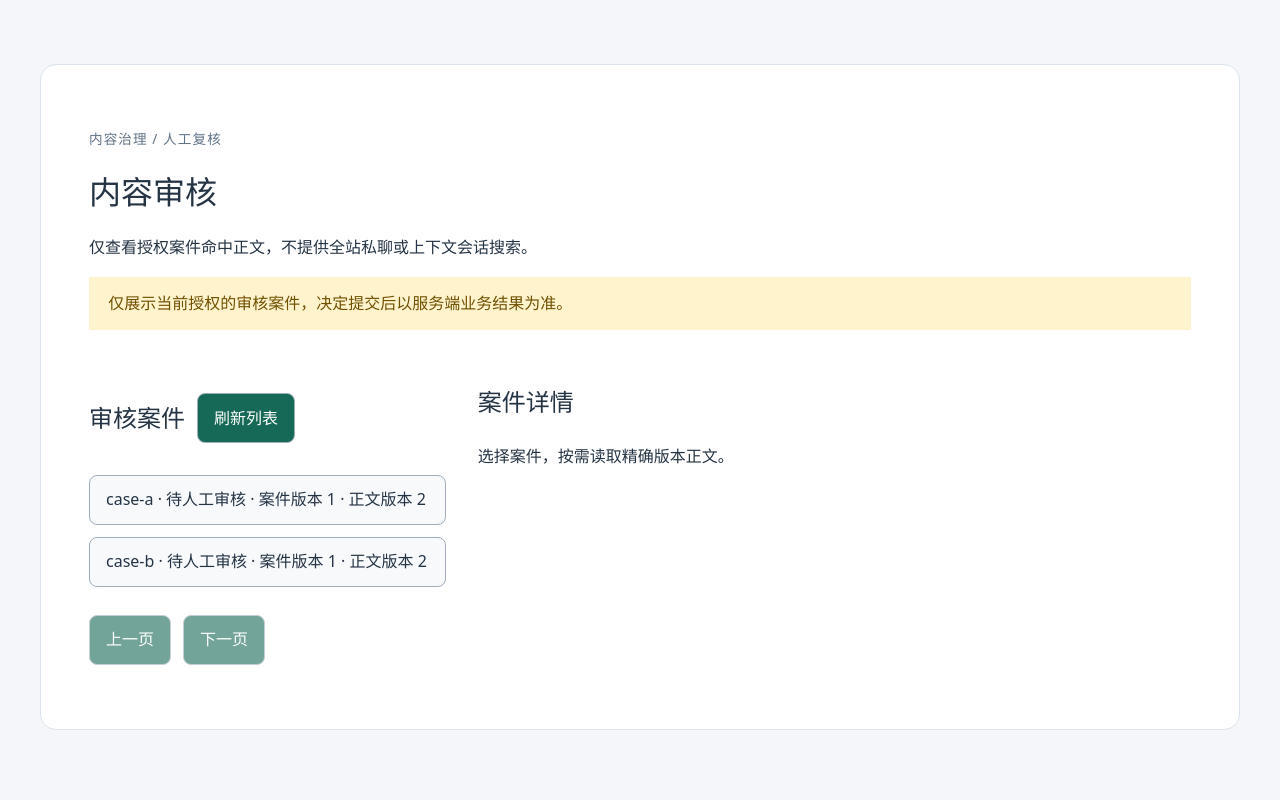
Test: T017 真实内容审核页面交互 › 409重新读取新正文版本并清空旧决定，不自动重提
Click the button "case-a · 待人工审核 · 案件版本 1 · 正文版本 2" at (267, 500), box 89,475 -> 446,525
(page scrolled)
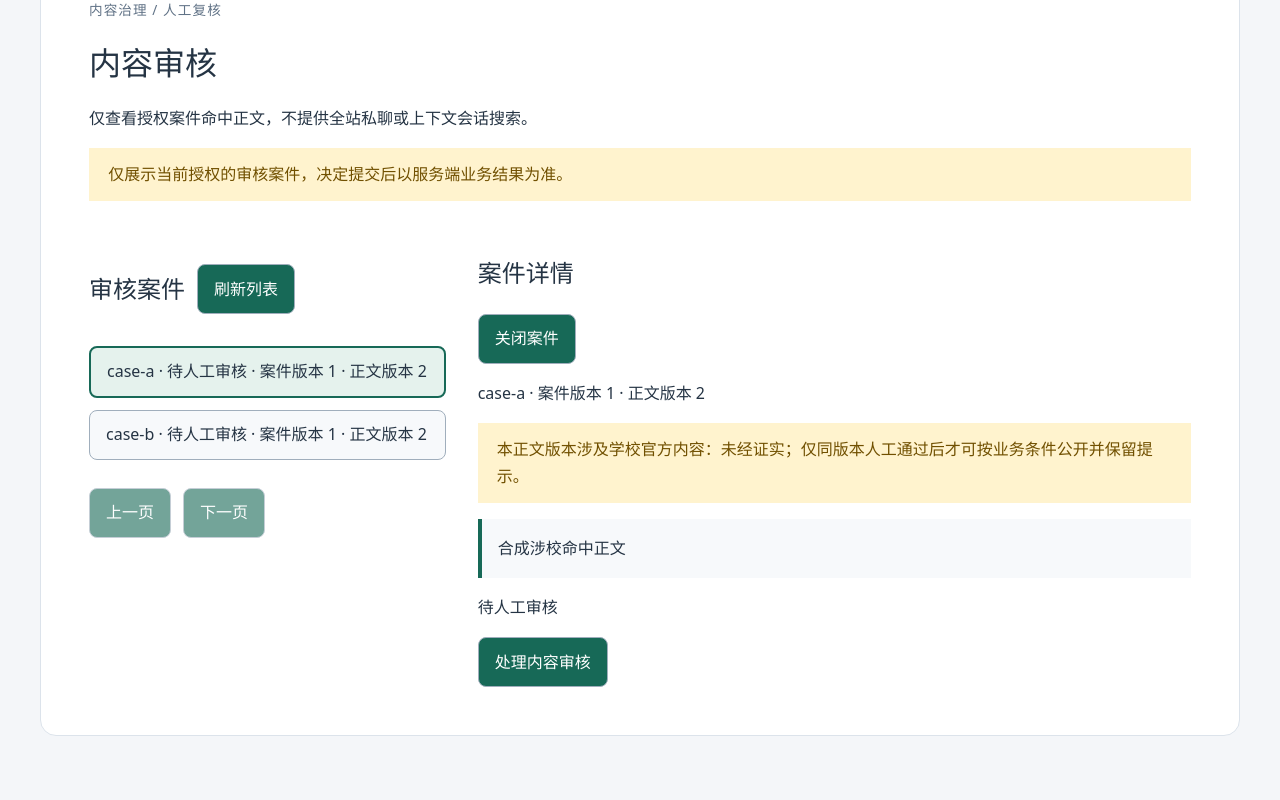
Click the button "处理内容审核" at (543, 662), box 478,637 -> 608,687
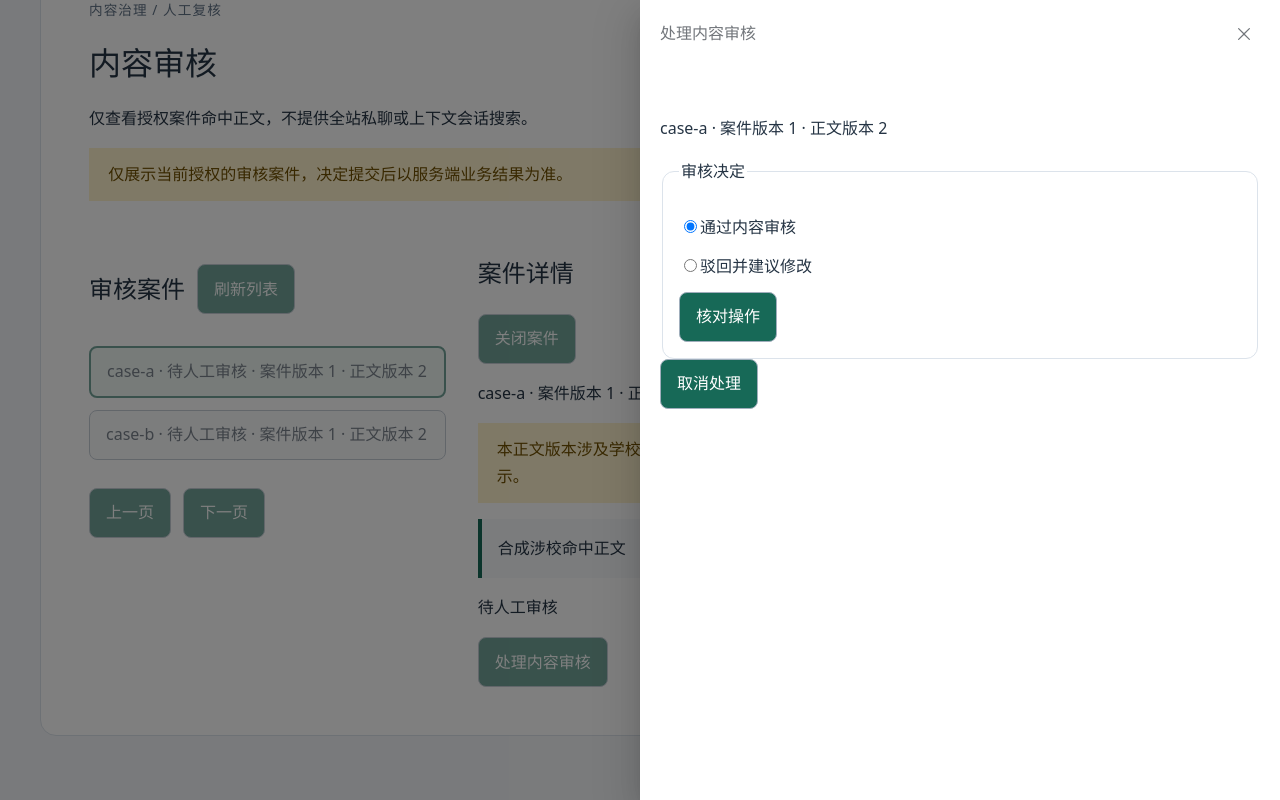
Submit the form, box 660,158 -> 1260,359
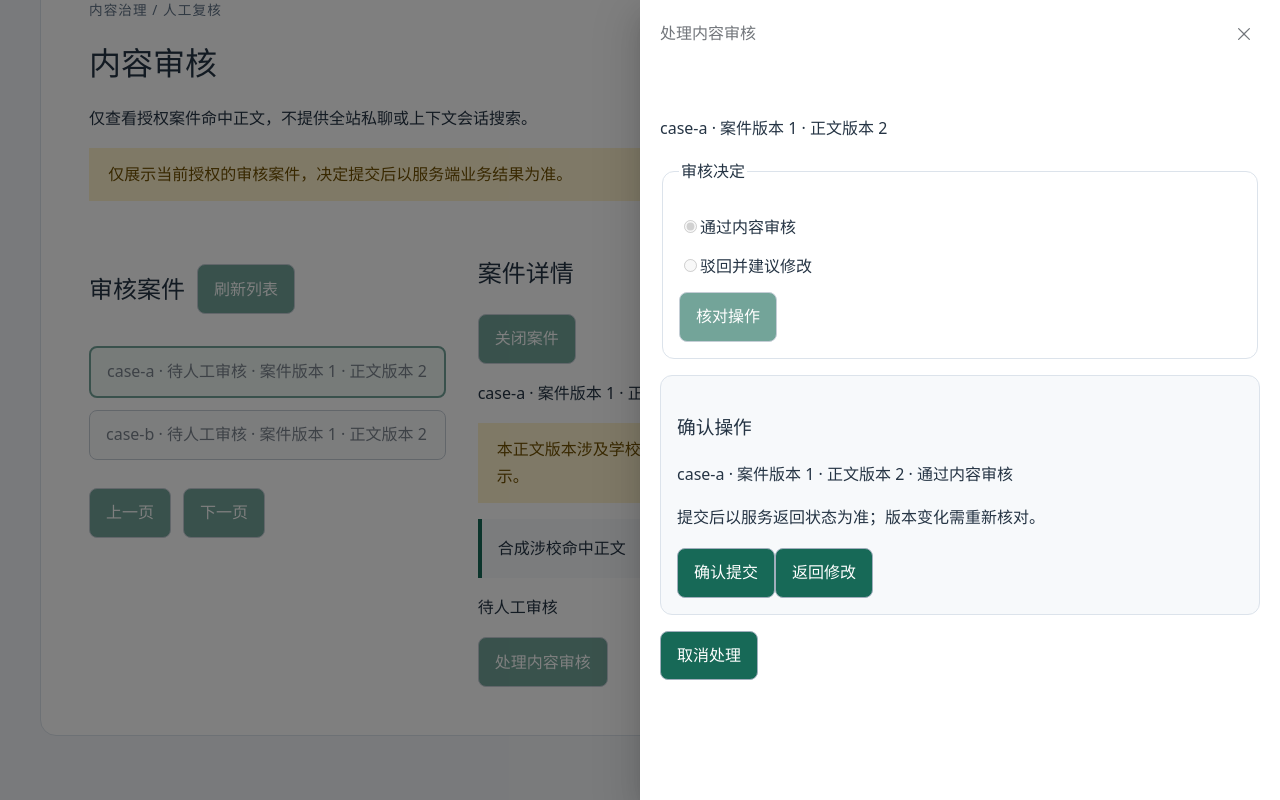
Click the button "确认提交" at (726, 572), box 677,548 -> 775,598
(page scrolled)
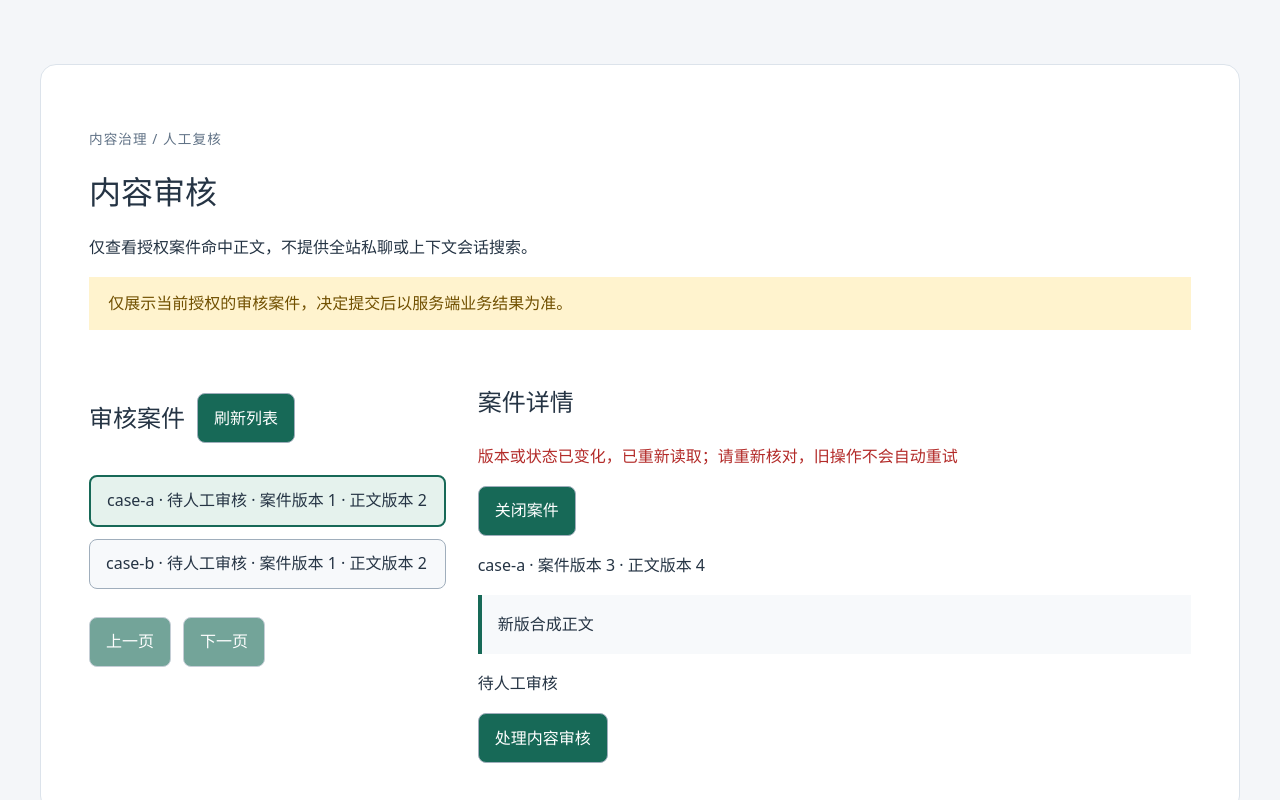
Now the text "新版合成正文" is shown, box 478,595 -> 1191,654
Now the text "旧操作不会自动重试" is shown, box 478,445 -> 958,467
Now the text "合成涉校命中正文" is gone
